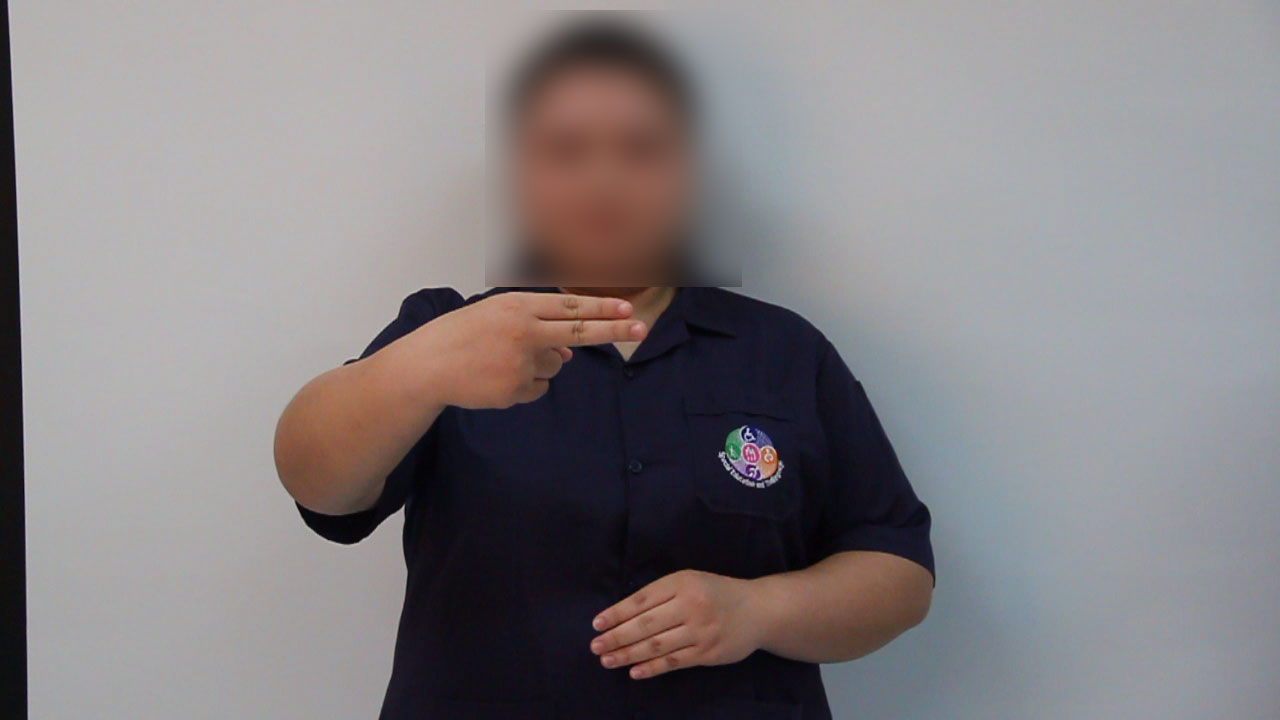hor: (399, 270, 660, 427)
